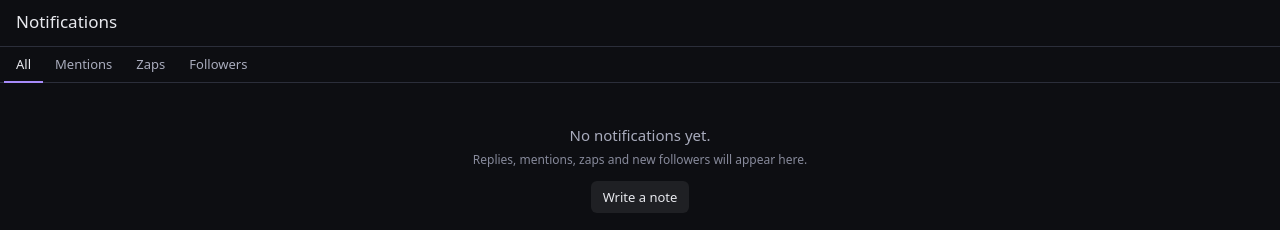
Scenario: NotificationsView: states › says there are none when a relay answered with none, on each tab in its own words
Expected: the text "No notifications yet." is shown, x1=570 y1=125 x2=710 y2=145
Click the tab "Mentions": (84, 65) x1=43 y1=47 x2=124 y2=83
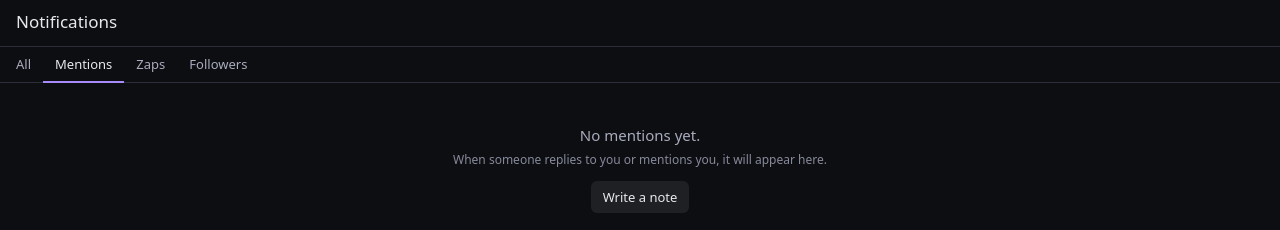
Expected: the text "No mentions yet." is shown, x1=580 y1=125 x2=700 y2=145
Click the tab "Zaps": (151, 65) x1=124 y1=47 x2=177 y2=83
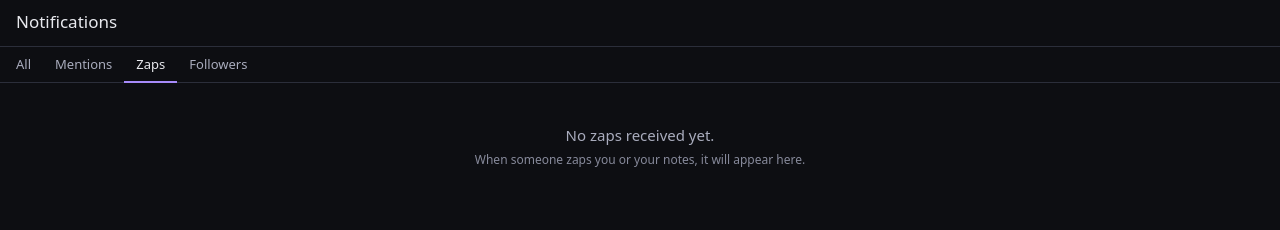
Expected: the text "No zaps received yet." is shown, x1=566 y1=125 x2=714 y2=145
Click the tab "Followers": (218, 65) x1=177 y1=47 x2=259 y2=83
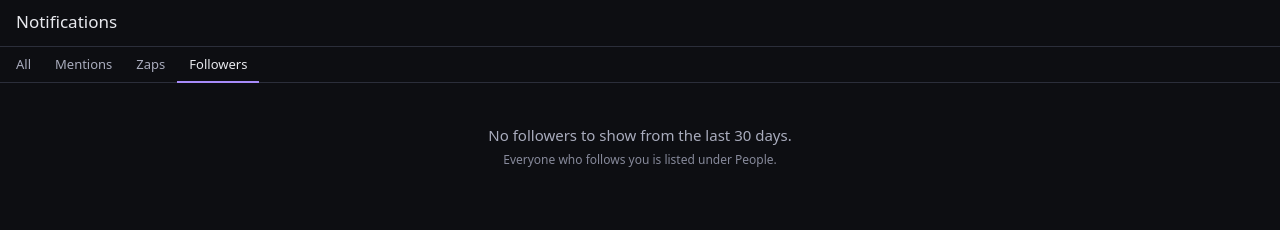
Expected: the text "No followers to show from the last 30 days." is shown, x1=488 y1=125 x2=792 y2=145
